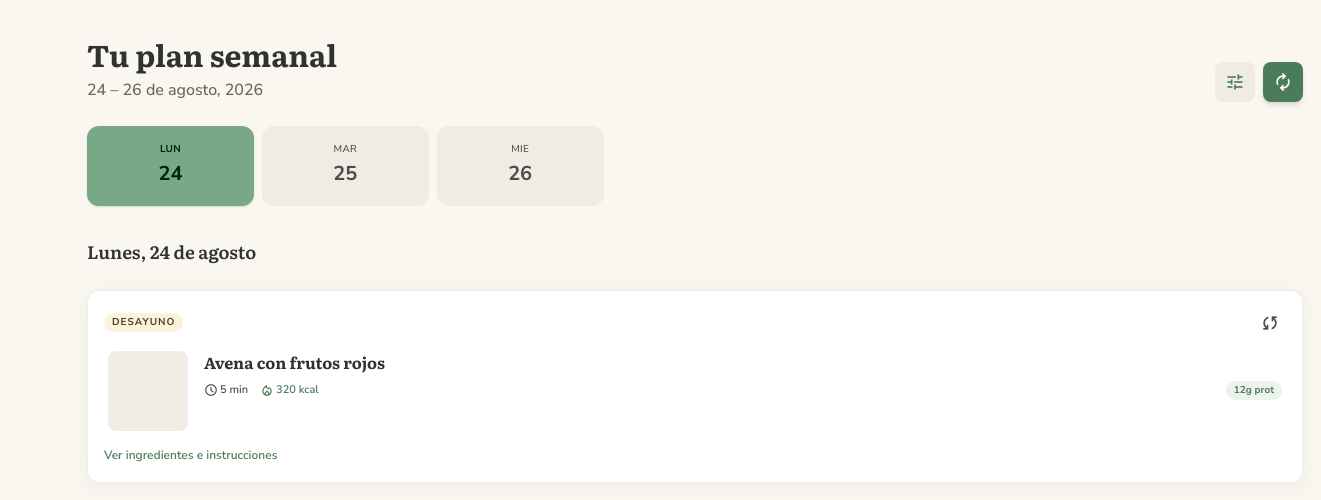
Test: MealPlanPage › lets the user switch to another day
The width and height of the screenshot is (1321, 500).
expect the text "Avena con frutos rojos" is shown: met, box [204,350,385,374]
Click the tab "MAR 25" at (345, 166), box [262,126,429,206]
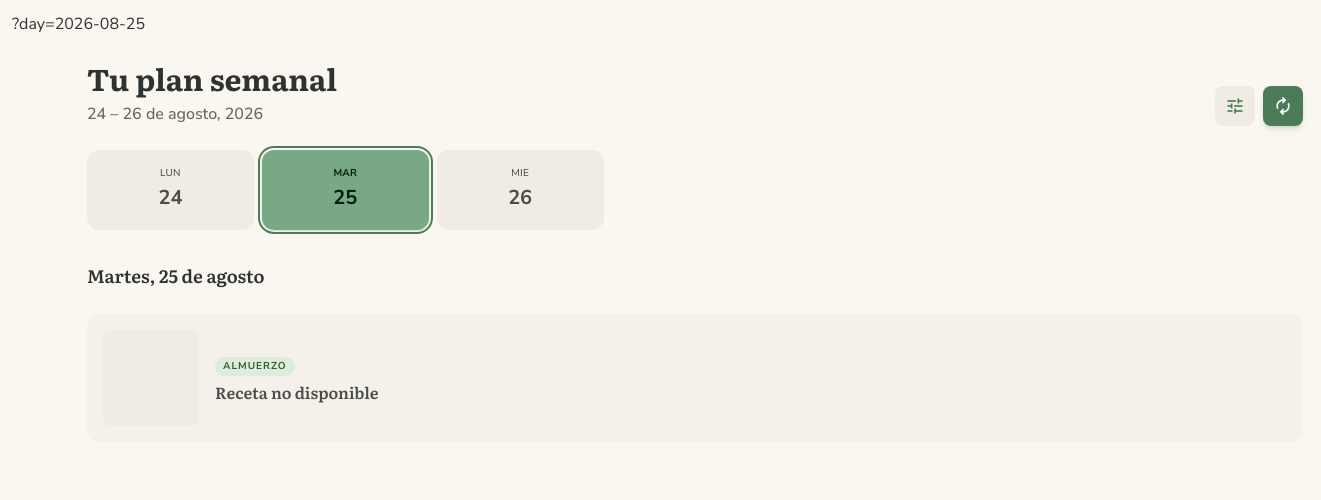
expect the link "Avena con frutos rojos" is gone: met
